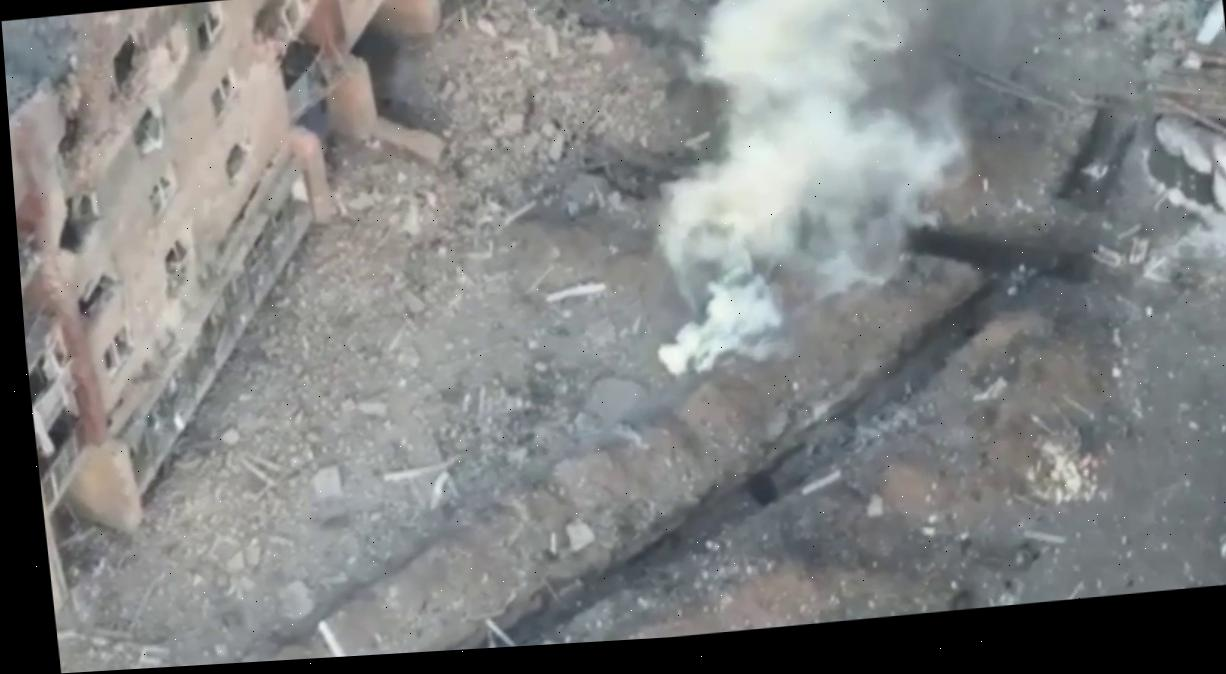trench: (386, 234, 1062, 652), (1025, 87, 1189, 281)
